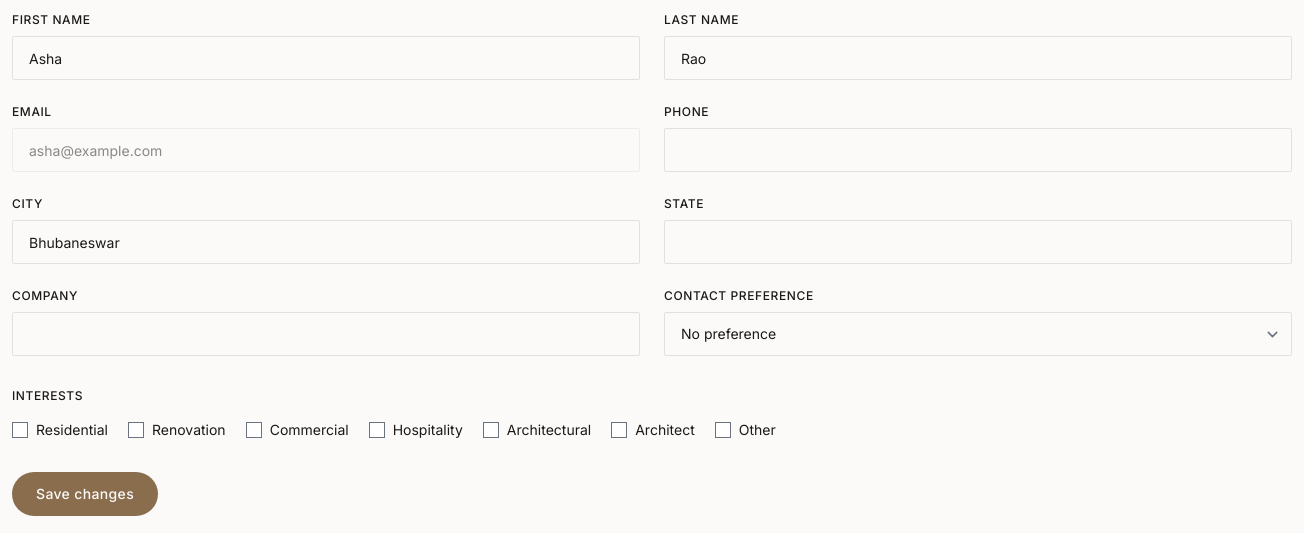
Scenario: ProfileForm › saves profile changes
In the field labelled "Phone": (978, 150) [664, 128, 1292, 172], type "+91 98765 43210"
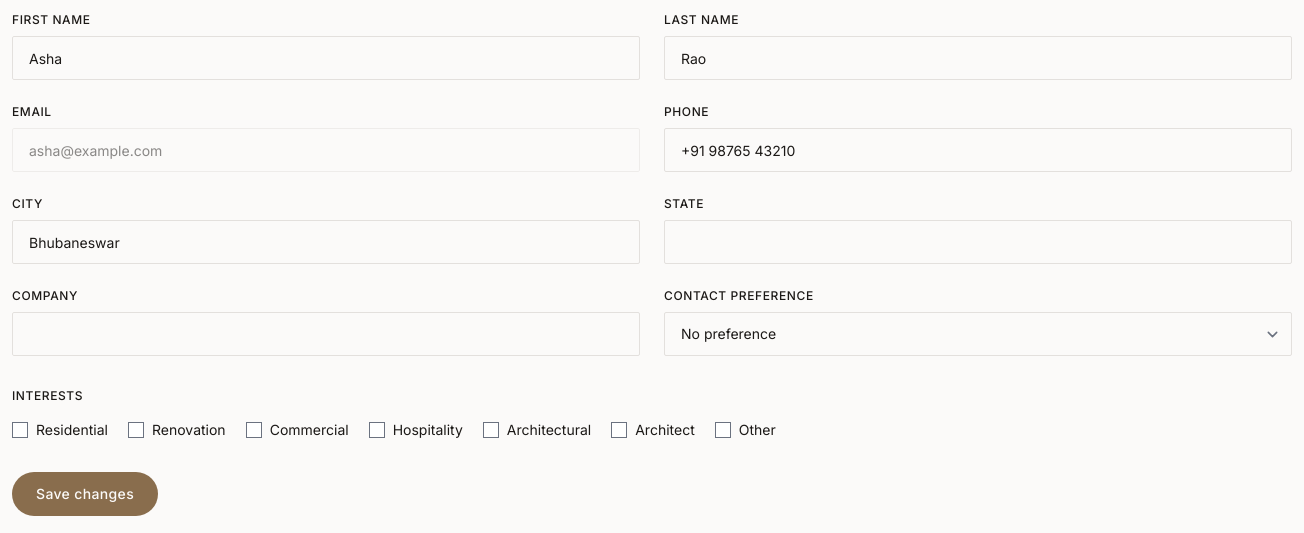
Click the button "Save changes": (85, 494) [12, 472, 158, 516]
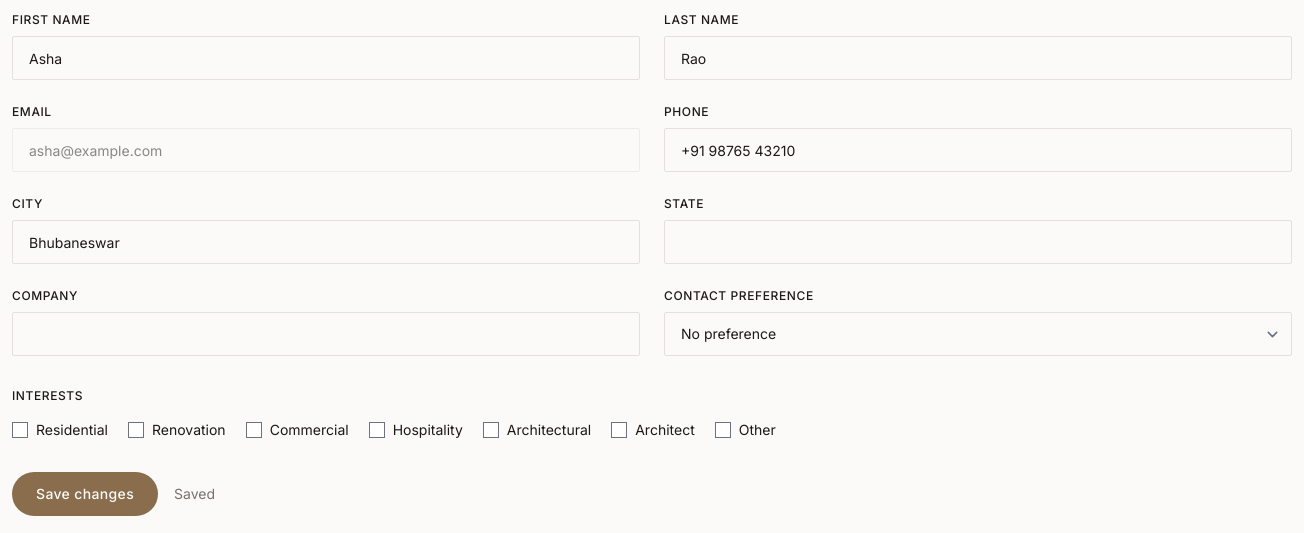
Check: the field labelled "Email" is disabled, box [12, 128, 640, 172]
Check: the message reads "Saved", box [174, 485, 215, 502]
